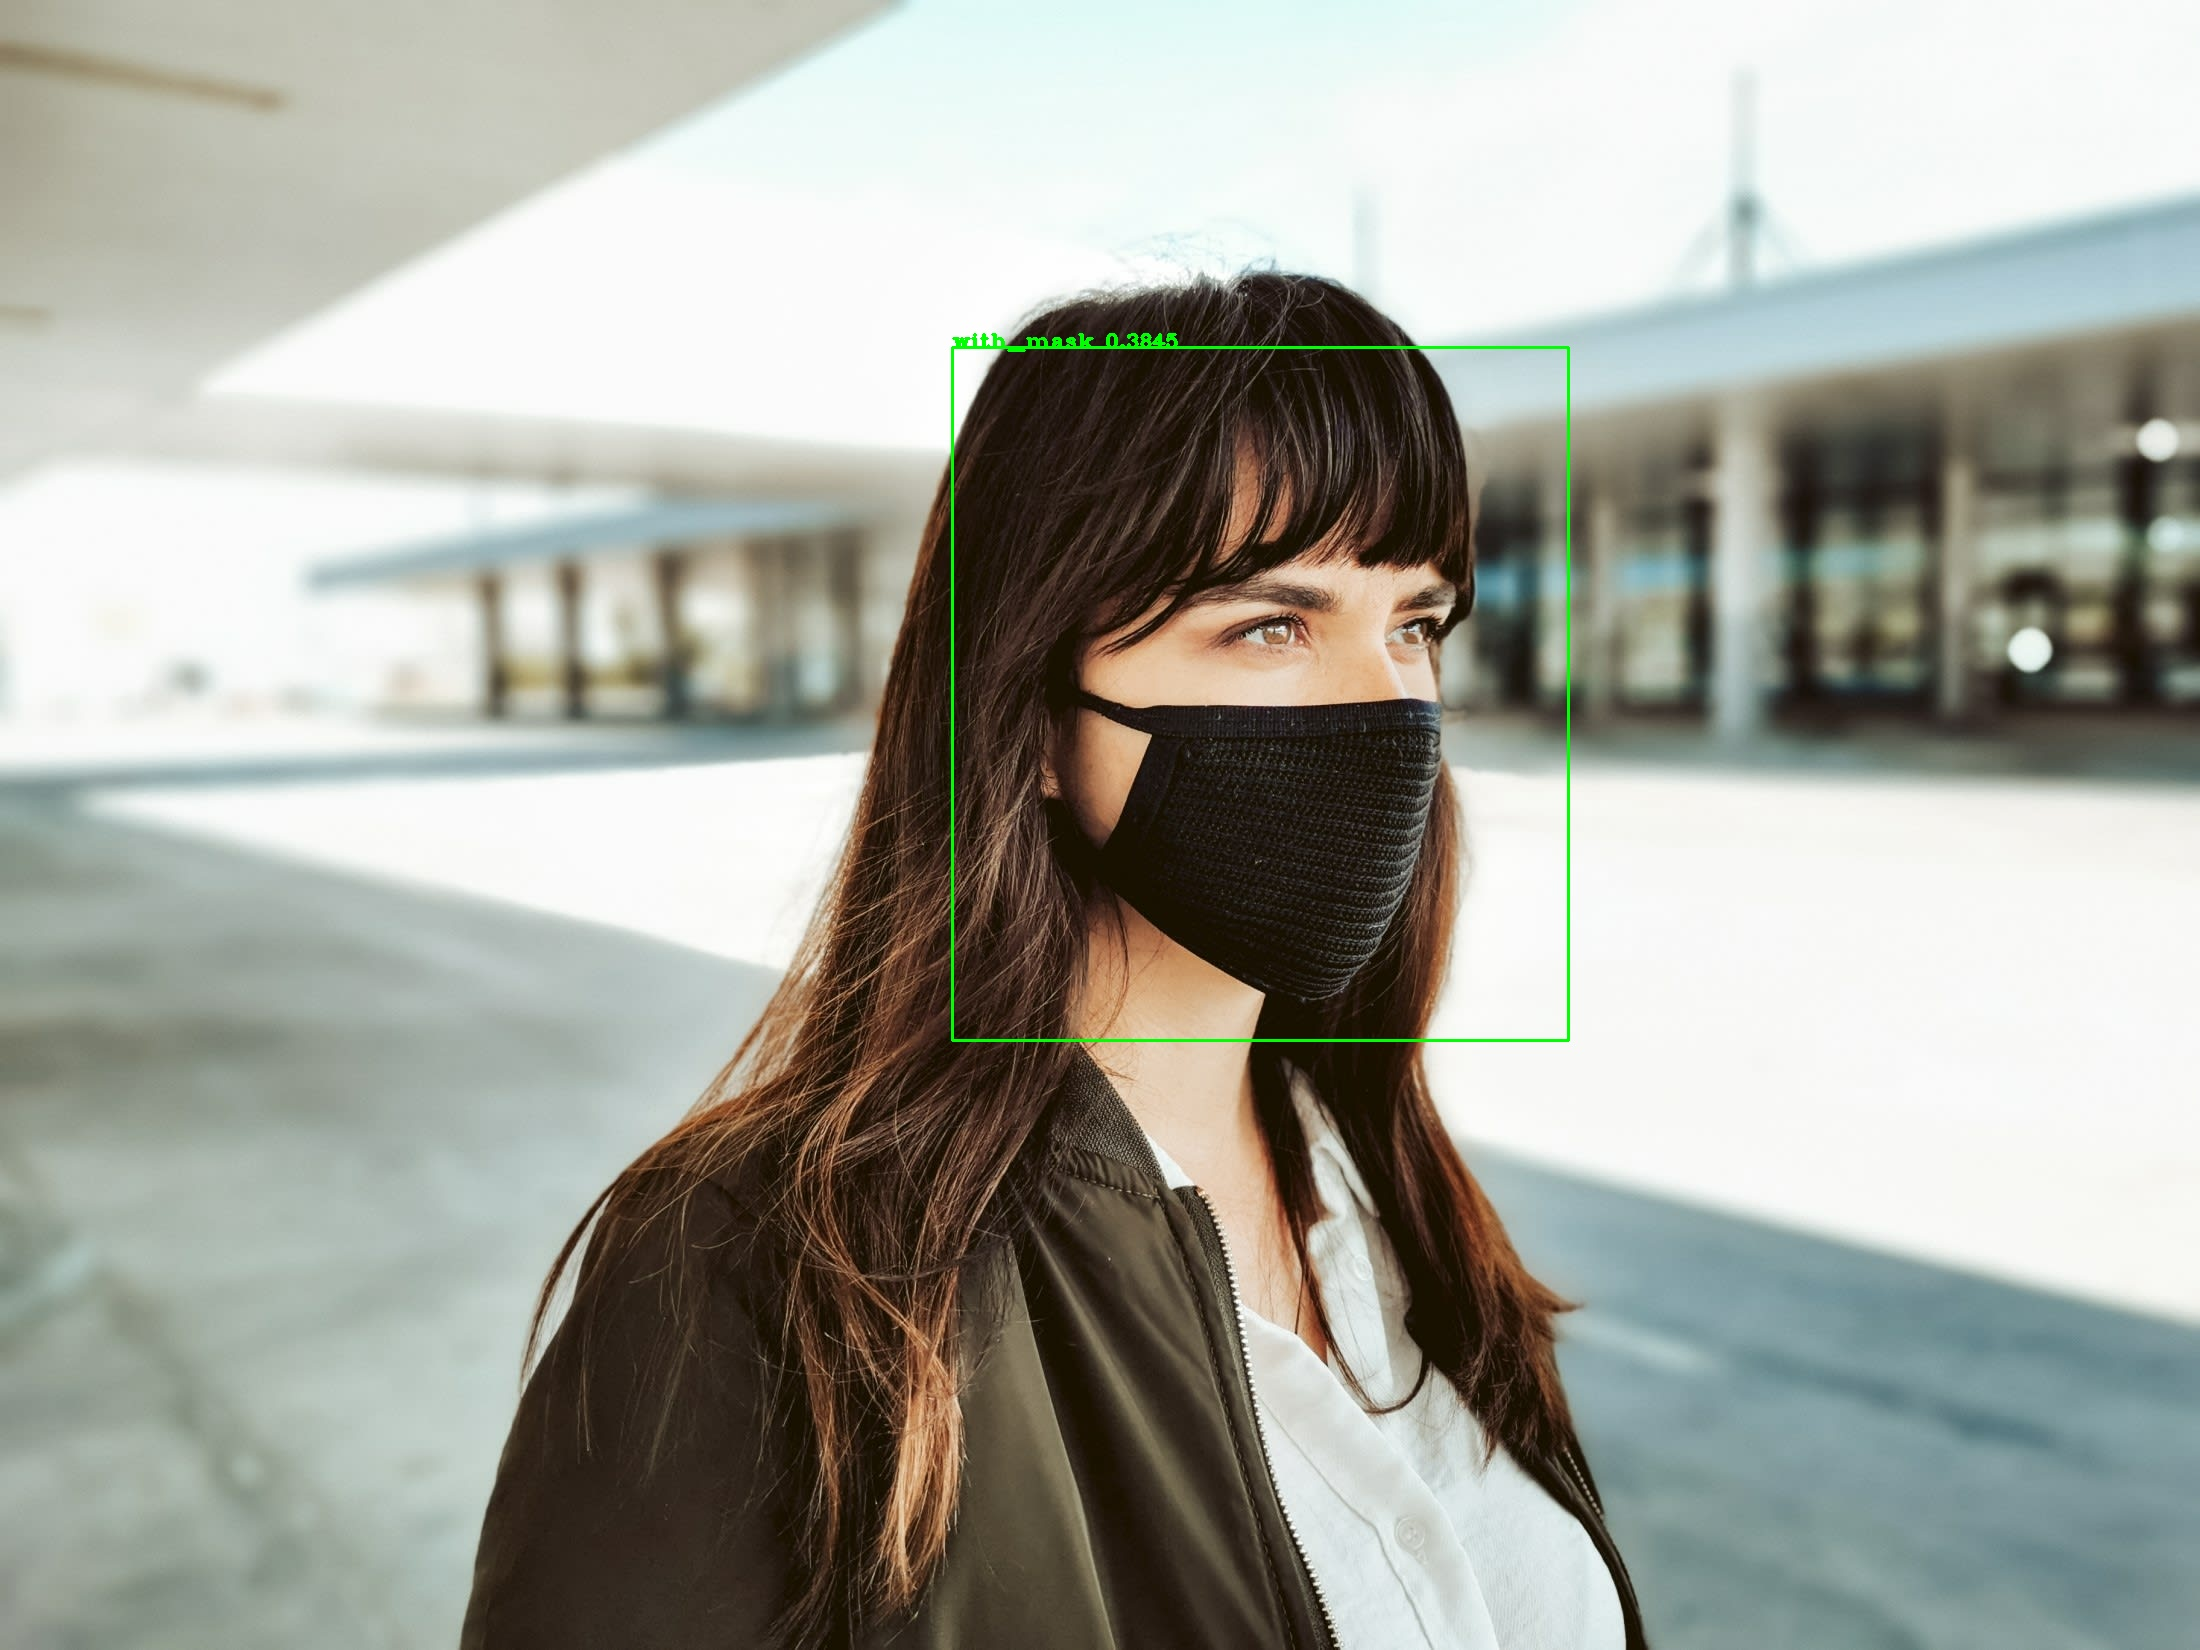with_mask: (996, 434, 1499, 1026)
